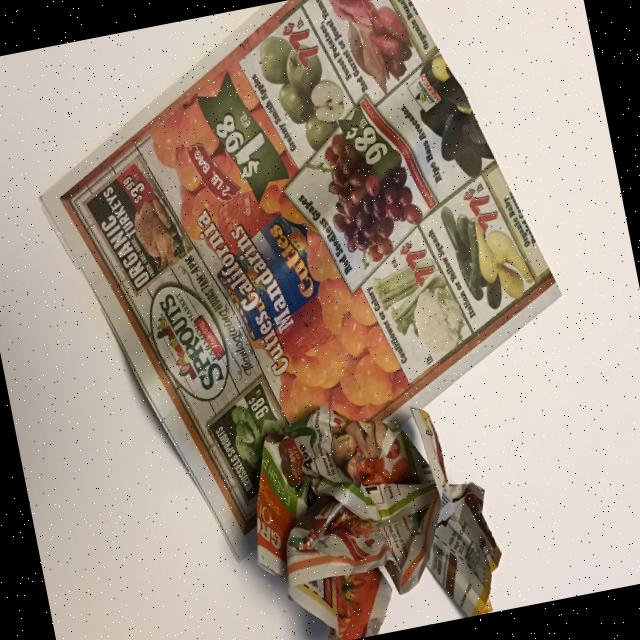paper: (9, 0, 620, 640)
